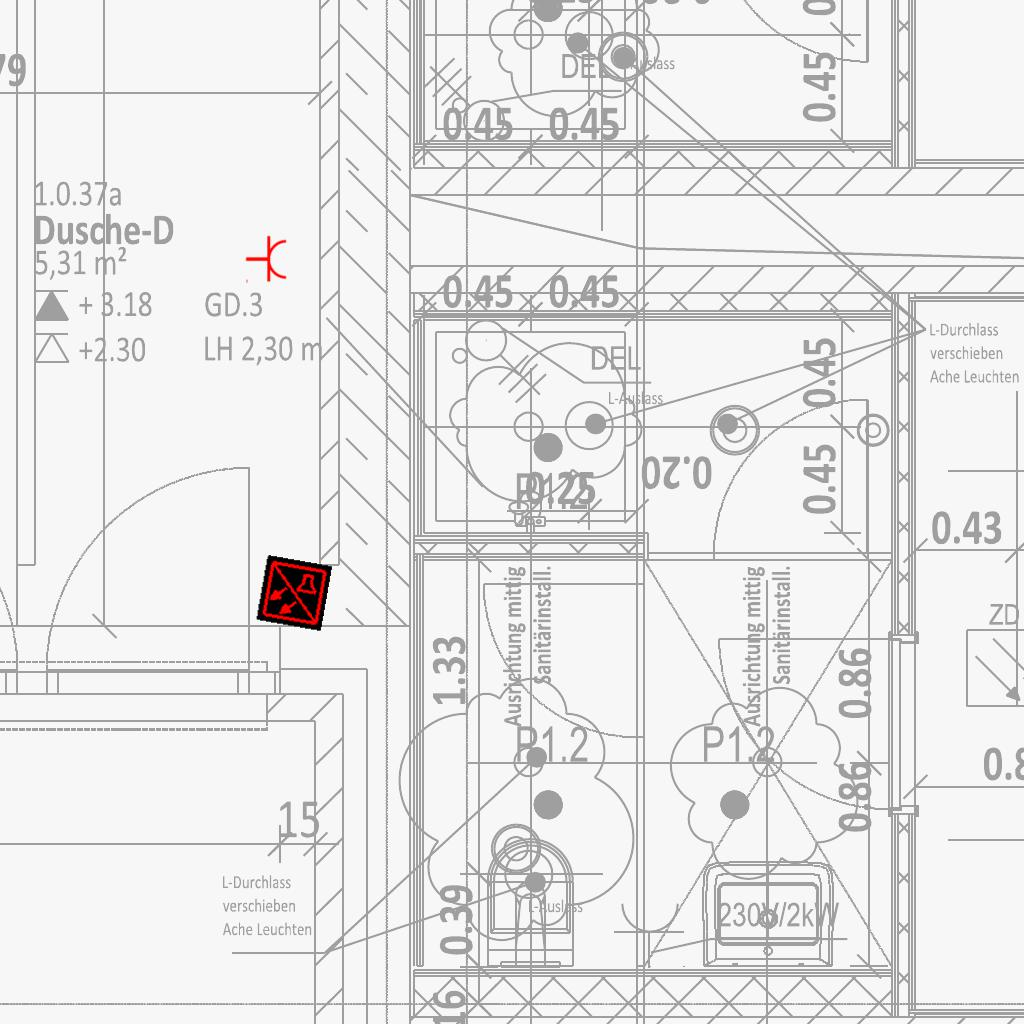OKW_Multisensormelder_(Kombination_optischer_Rauch-Kahlenmonoxid_Waerme-Melder): (255, 554, 333, 632)
Schukosteckdose_einfach: (245, 235, 288, 285)
